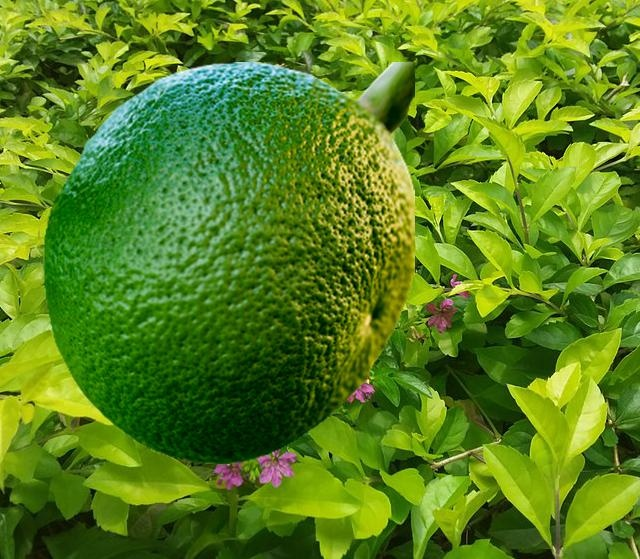dalandan: (43, 62, 413, 462)
